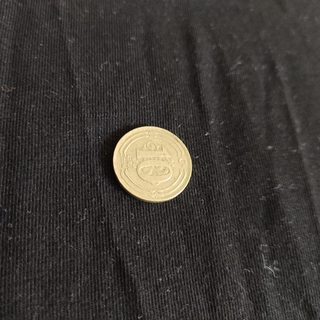10KURUS: (110, 124, 194, 204)
